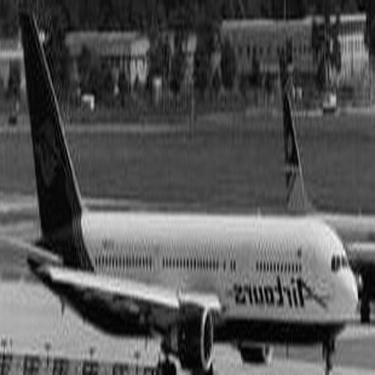airplane: (4, 5, 371, 371), (258, 65, 367, 334)
